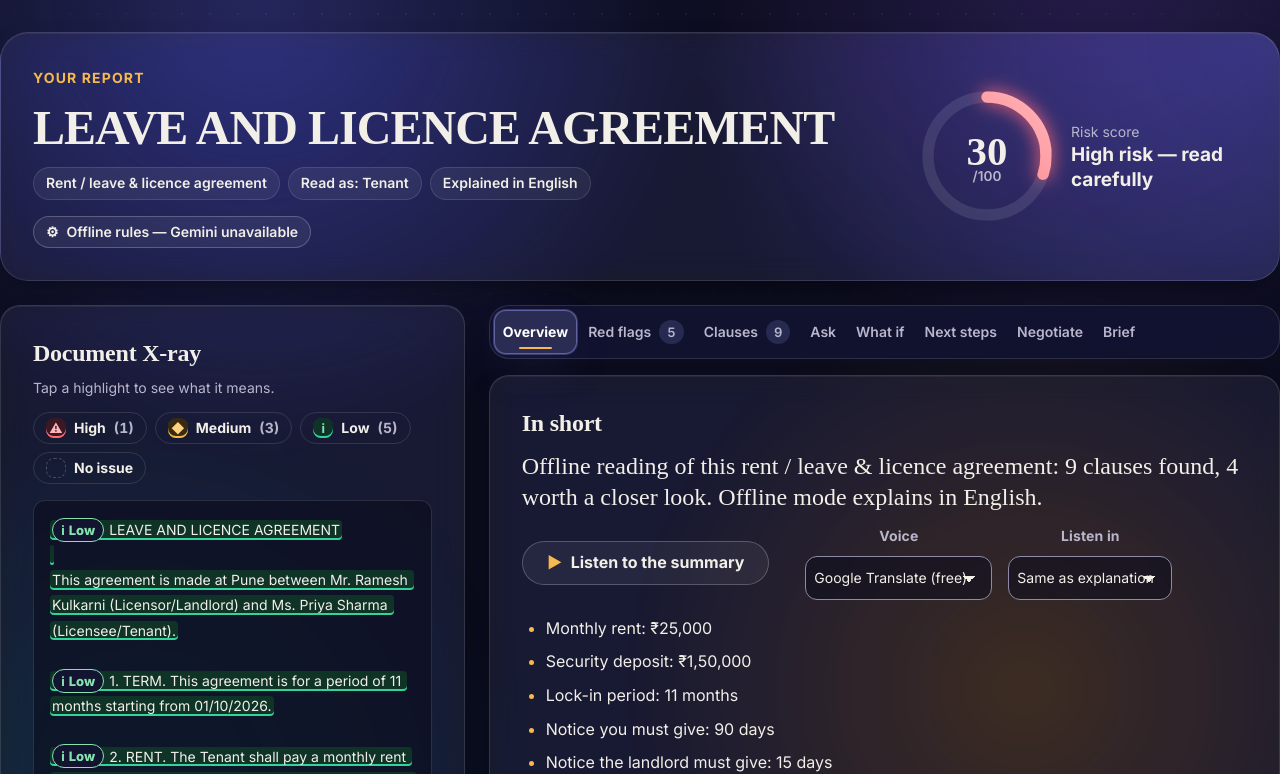
Scenario: ReportWorkspace › renders every clause and marks verified quotes
Click the tab "Clauses 9".
click(747, 332)  # box [695, 310, 799, 354]
(page scrolled)
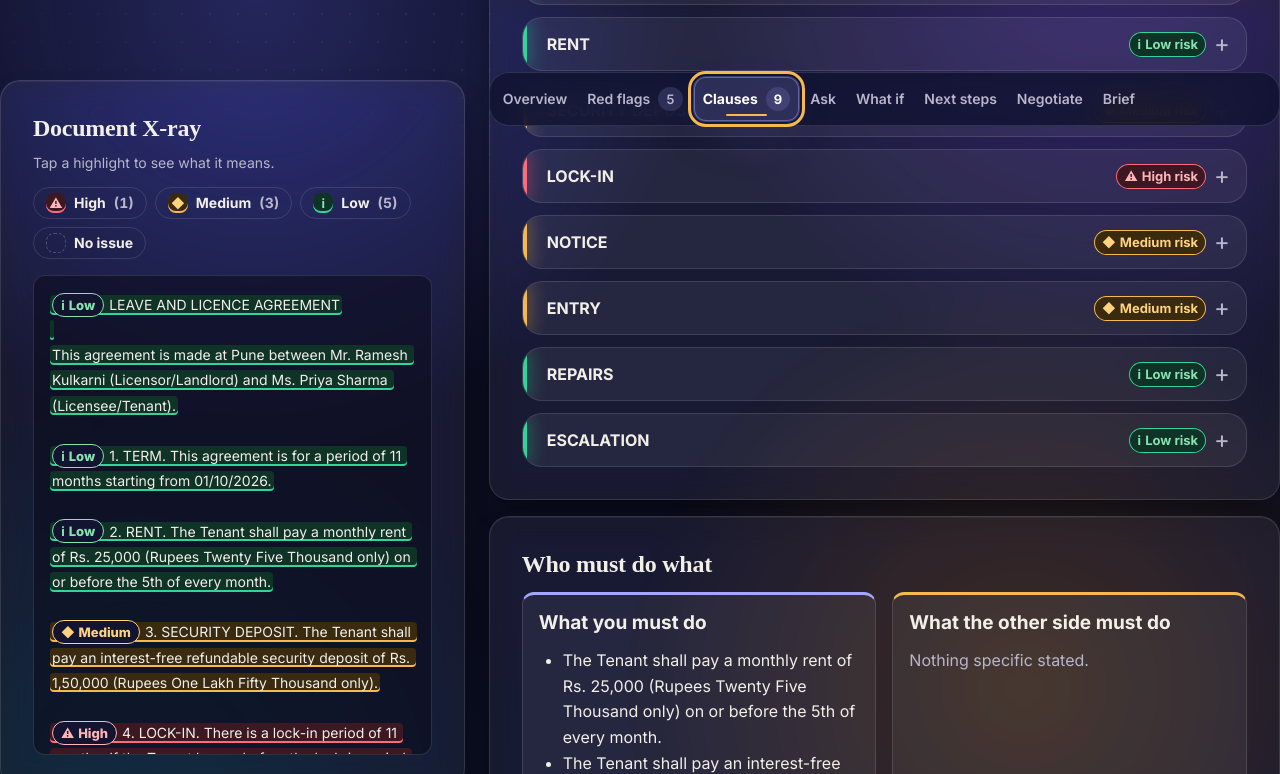
Expected: the text "ENTRY" is shown, [547, 298, 601, 318]
Expected: the text "REPAIRS" is shown, [547, 364, 613, 384]
Expected: the text "ESCALATION" is shown, [547, 430, 650, 450]
